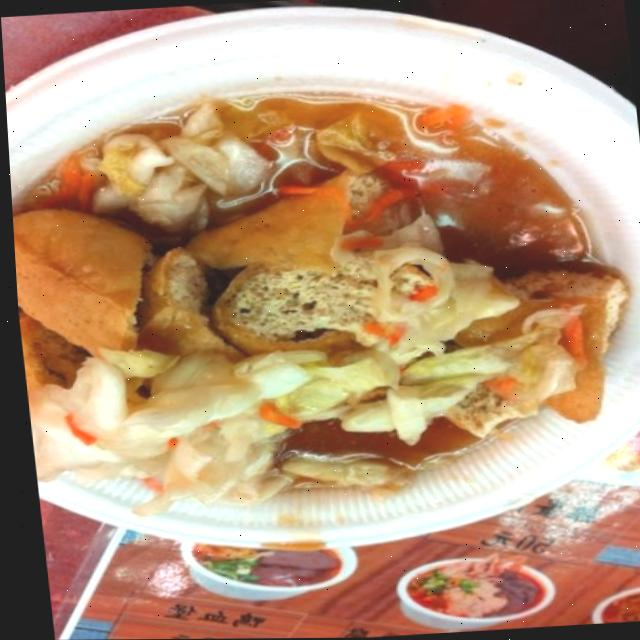豆腐料理: (0, 0, 640, 573)
